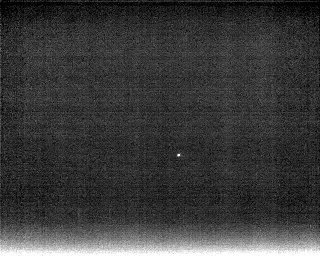BIRD: (174, 150, 183, 161)
